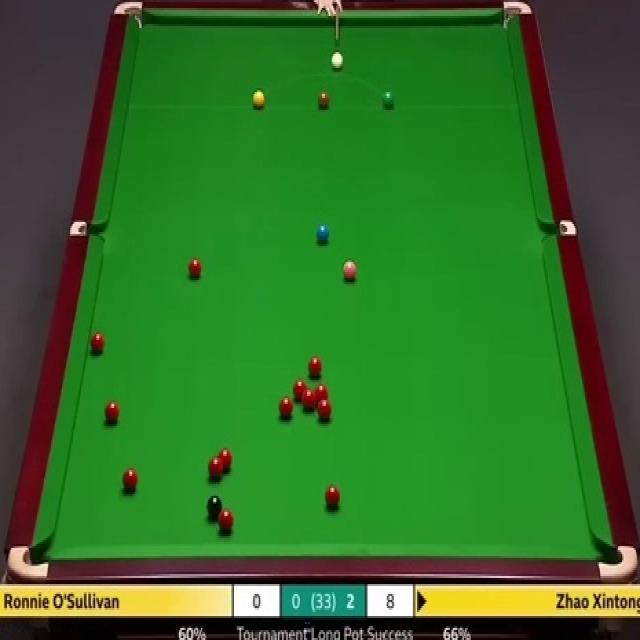pocket: (7, 544, 54, 584), (595, 539, 637, 583), (111, 0, 146, 34), (502, 0, 534, 37), (542, 218, 576, 236), (70, 220, 108, 234)
